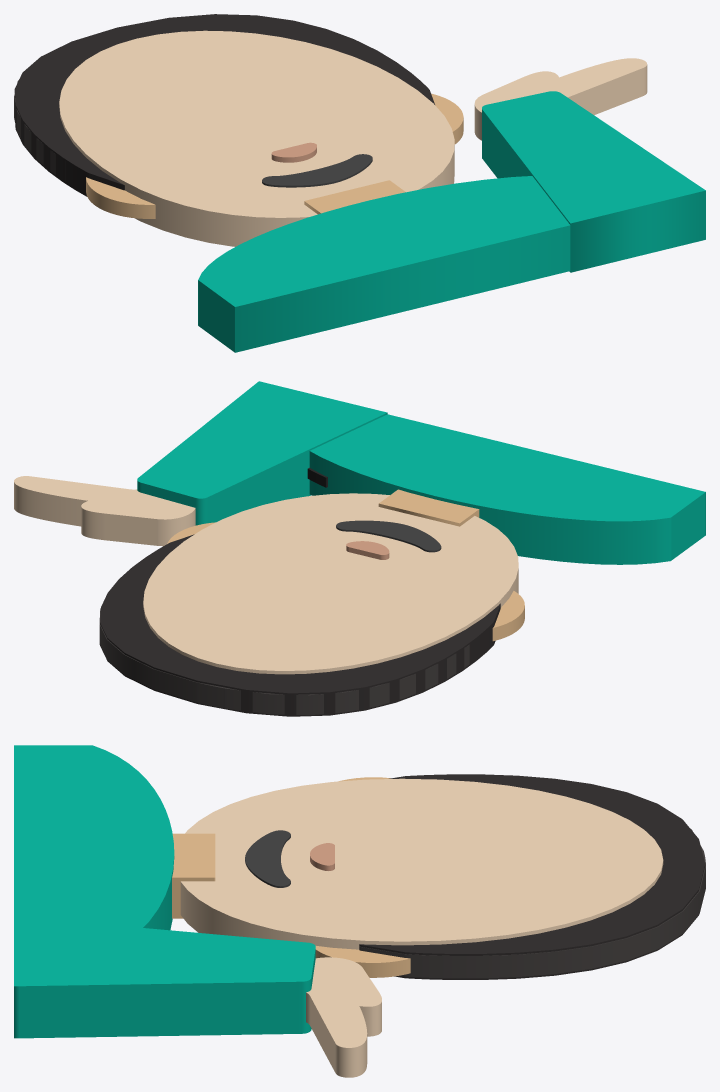
Rendered from emoji_u1f481_1f3fb_200d_2642.glb.
3 views of the same model, one above another, from view 1: azimuth 30°, elevation 25°; view 2: azimuth 150°, elevation 25°; view 3: azimuth 270°, elevation 25° (orthographic). The views are drawn at different scales.
Parts seen in each view (by area): view 1: emoji_u1f481_1f3fb_200d_2642; view 2: emoji_u1f481_1f3fb_200d_2642; view 3: emoji_u1f481_1f3fb_200d_2642.
Part boxes in pixels (x1,y1,x2,y2): emoji_u1f481_1f3fb_200d_2642: (14,14,705,352); emoji_u1f481_1f3fb_200d_2642: (14,381,705,716); emoji_u1f481_1f3fb_200d_2642: (14,745,705,1077).
Bounding box in the file's own units: 0.0338 × 0.0028 × 0.0337.
